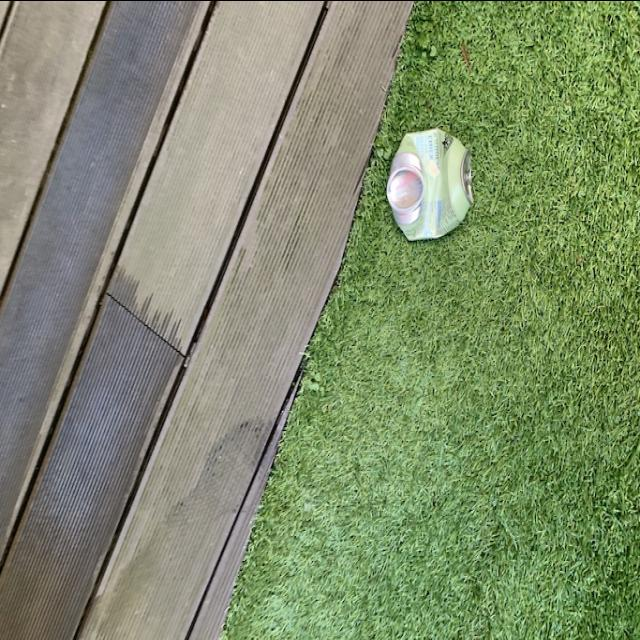litter: (385, 125, 481, 249)
